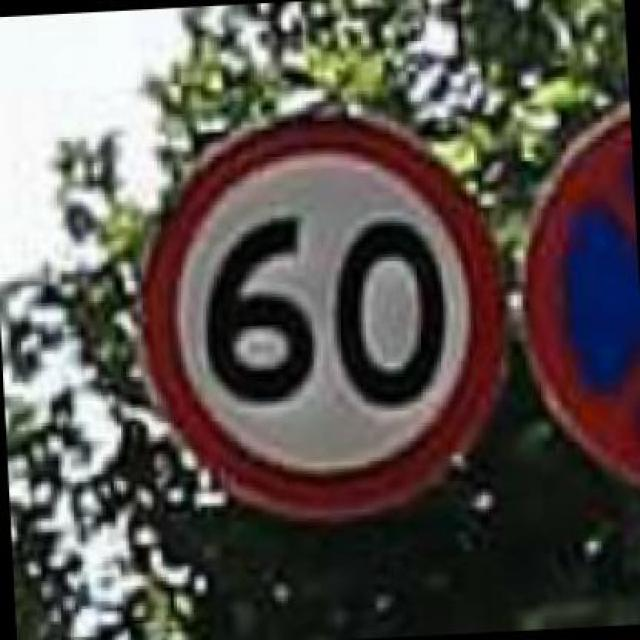Limite-60: (135, 111, 510, 526)
